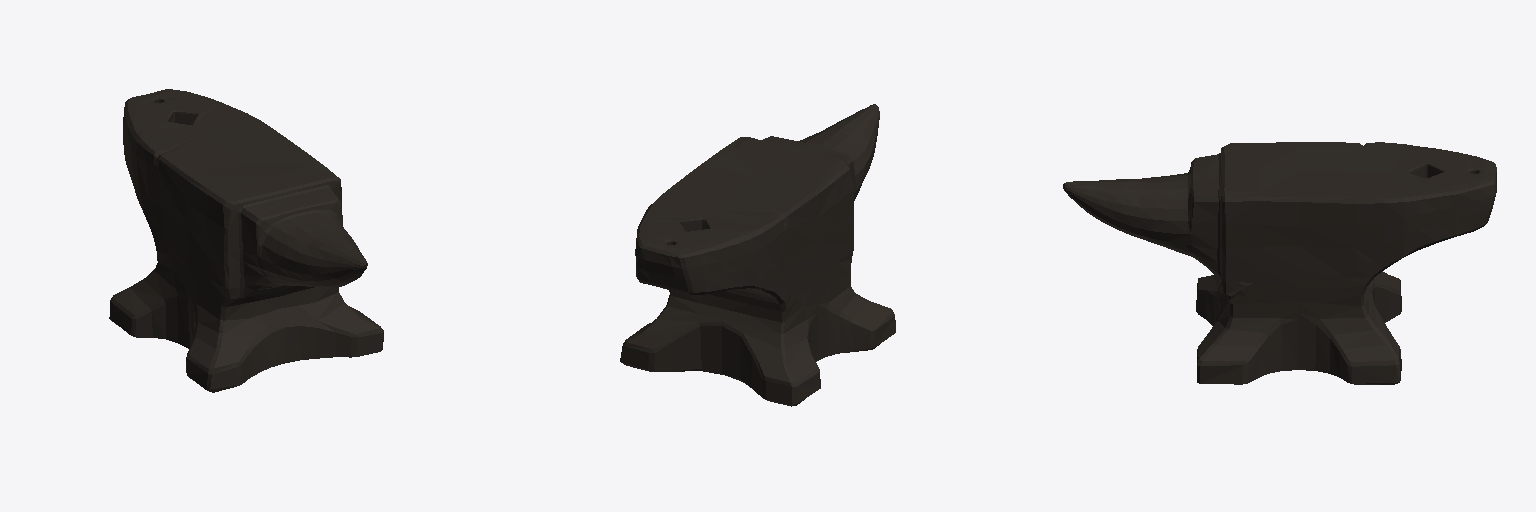
The model's file is Anvil.obj.
The picture shows the model from 3 angles: view 1: azimuth 30°, elevation 25°; view 2: azimuth 150°, elevation 25°; view 3: azimuth 270°, elevation 25°; orthographic projection.
Visible parts, largest first — view 1: Anvil; view 2: Anvil; view 3: Anvil.
Boxes of the visible parts, x1,y1,x2,y2 form: Anvil: [109, 89, 383, 392]; Anvil: [620, 104, 895, 406]; Anvil: [1063, 142, 1496, 384].
Size of the model in its own units: 155 by 146 by 329.